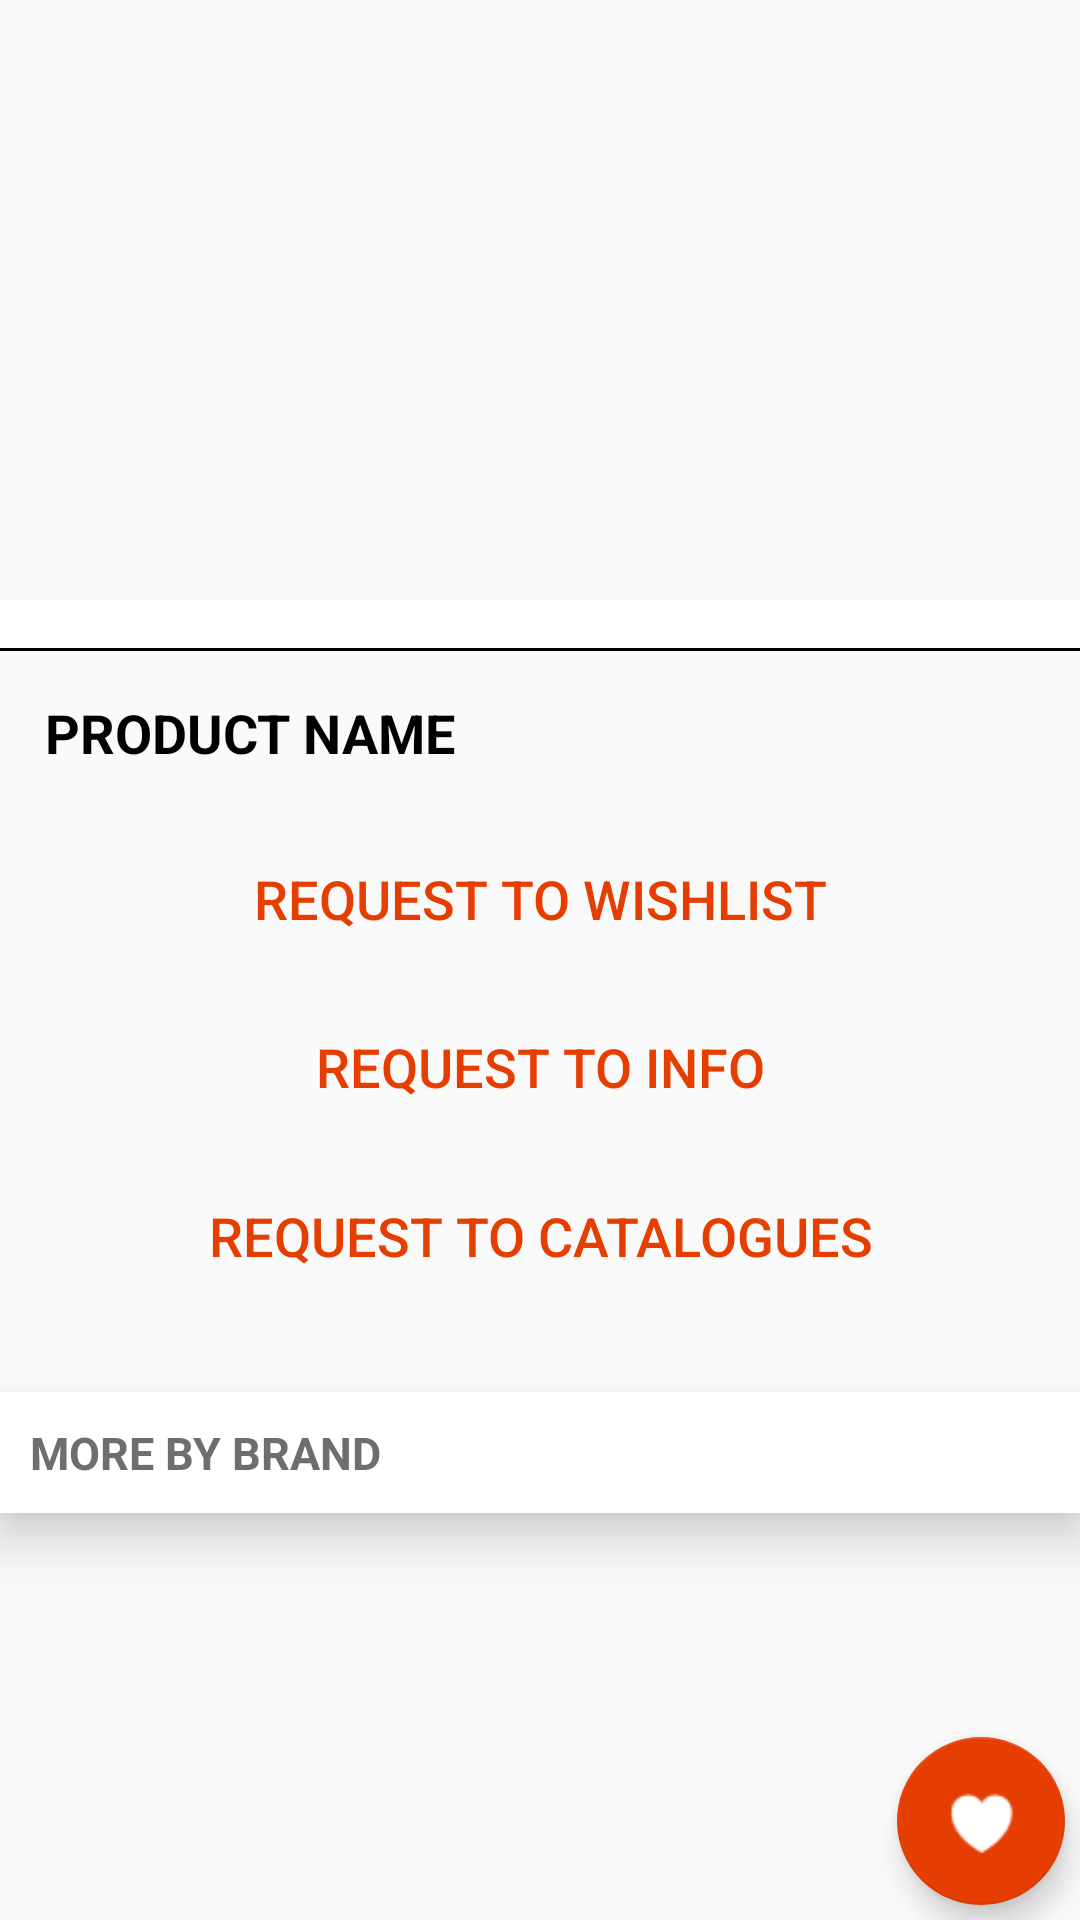

Screen size 1080*1920. Icon name, then its box in pixels as bbox=[x1, y1, x2, y2]:
wish: bbox=[897, 1737, 1065, 1905]
